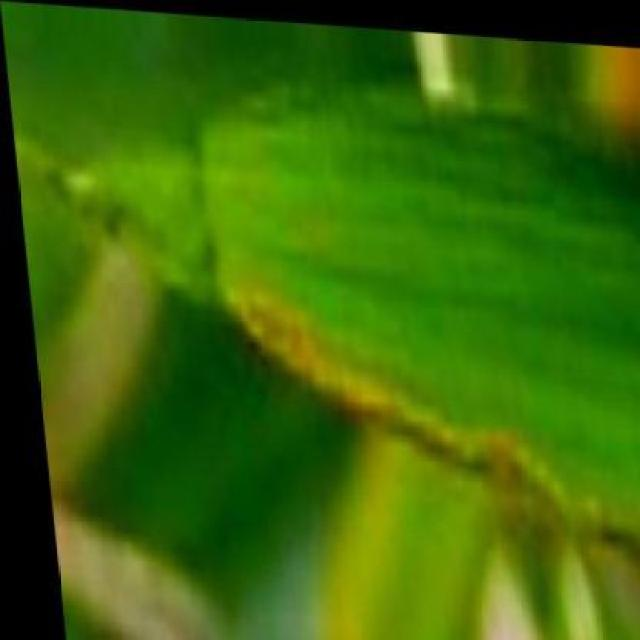Brown_Spot: (9, 100, 640, 602)
